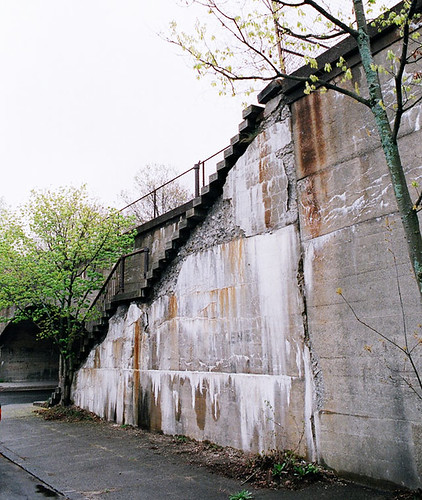sky: (7, 1, 293, 168)
tree: (149, 3, 422, 311), (1, 172, 151, 347)
